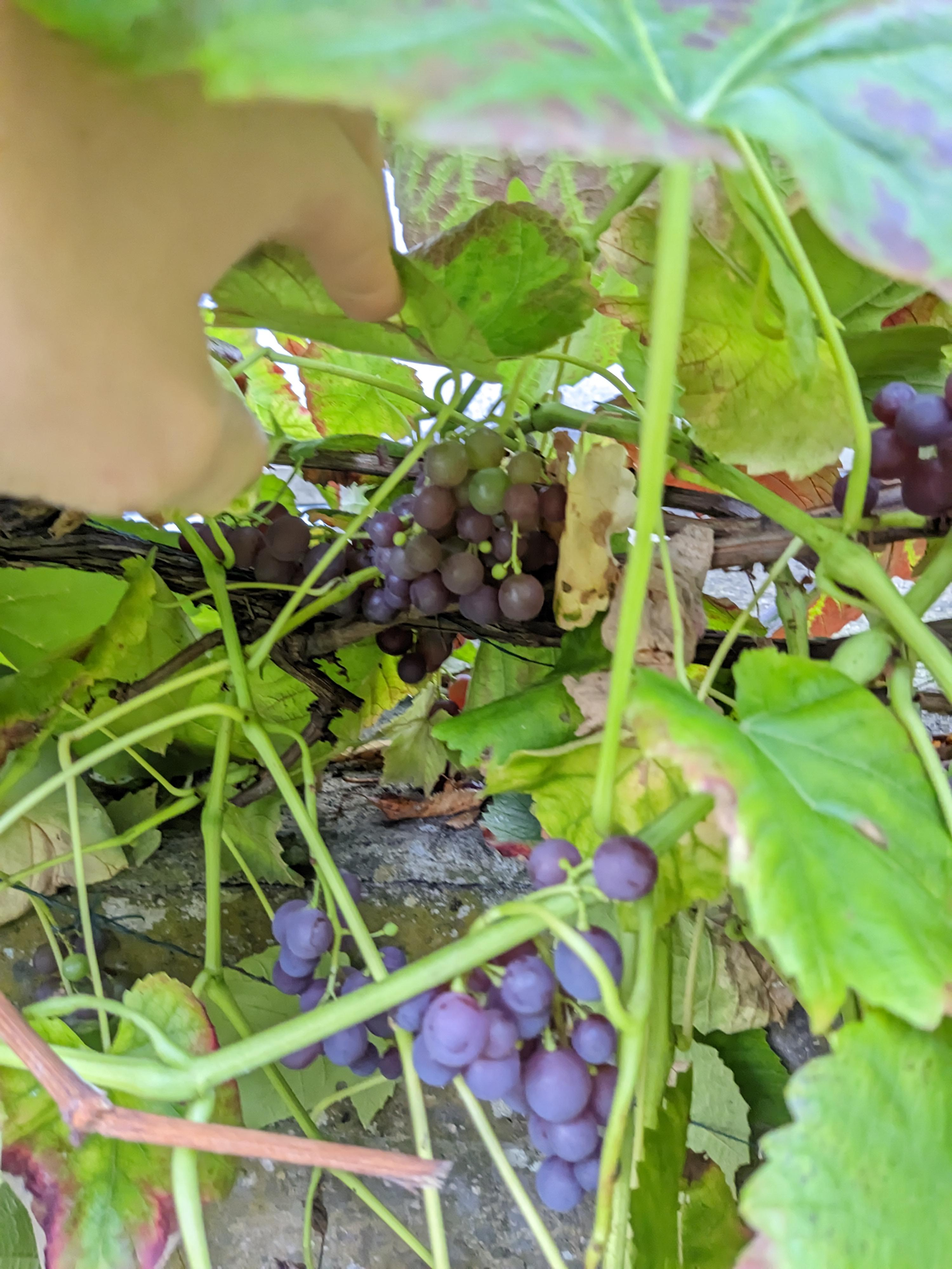Grape Unripe: (399, 838, 661, 1217), (364, 425, 568, 684), (176, 500, 460, 683), (261, 897, 413, 1077), (833, 376, 952, 528), (32, 922, 130, 1023)
